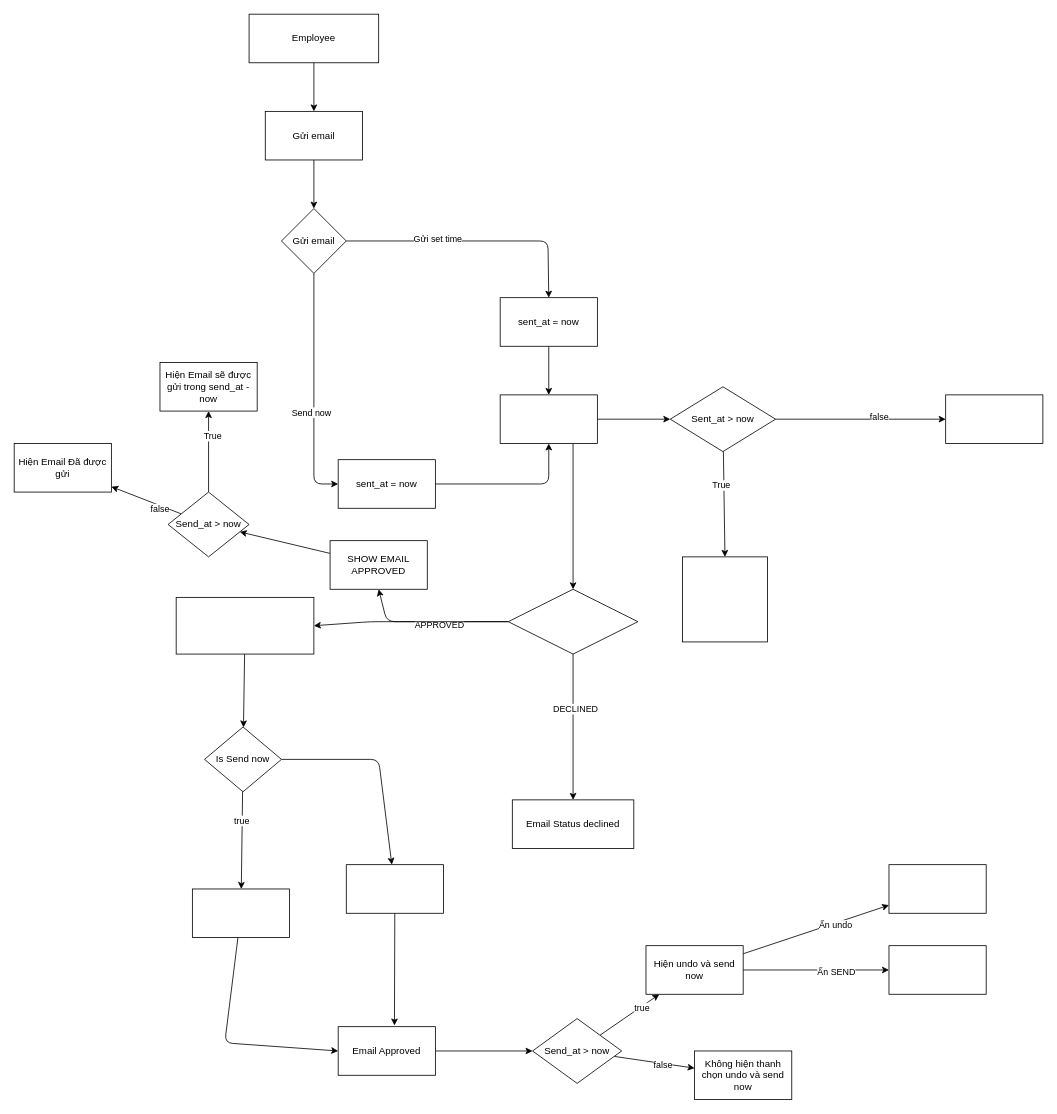
Image size: 1057x1114. Some labels were removed from this diagram. Each missing label, with the centre of its shape:
"Gội API status = APPROVED, send_after=0" goes at point (937, 969).
"Hiện modal có approved now và Approved set time, input chọn số phút" goes at point (244, 625).
"Không hiện cancel" goes at point (994, 418).
"Manager approve" goes at point (572, 621).
"Người dùng có thể hủy email khi nhấn cancel" goes at point (724, 599).
"Pending" goes at point (548, 418).
"Send after = số phút người dùng nhập" goes at point (394, 888).
"Send_after = 0" goes at point (241, 913).
